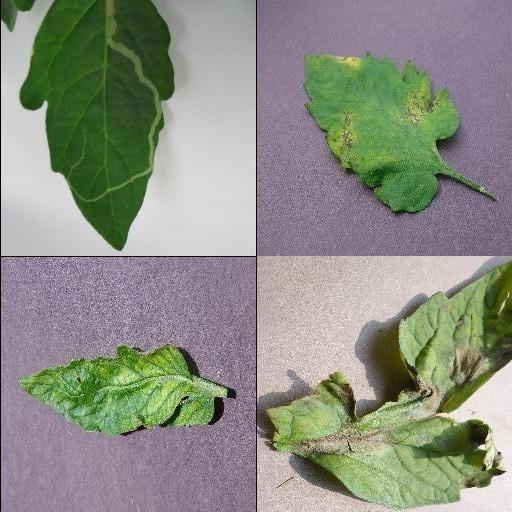Late Blight: (266, 259, 512, 511)
Leaf Miner: (16, 0, 176, 251)
Mosaic Virus: (15, 341, 215, 437)
Septoria: (306, 50, 460, 216)
